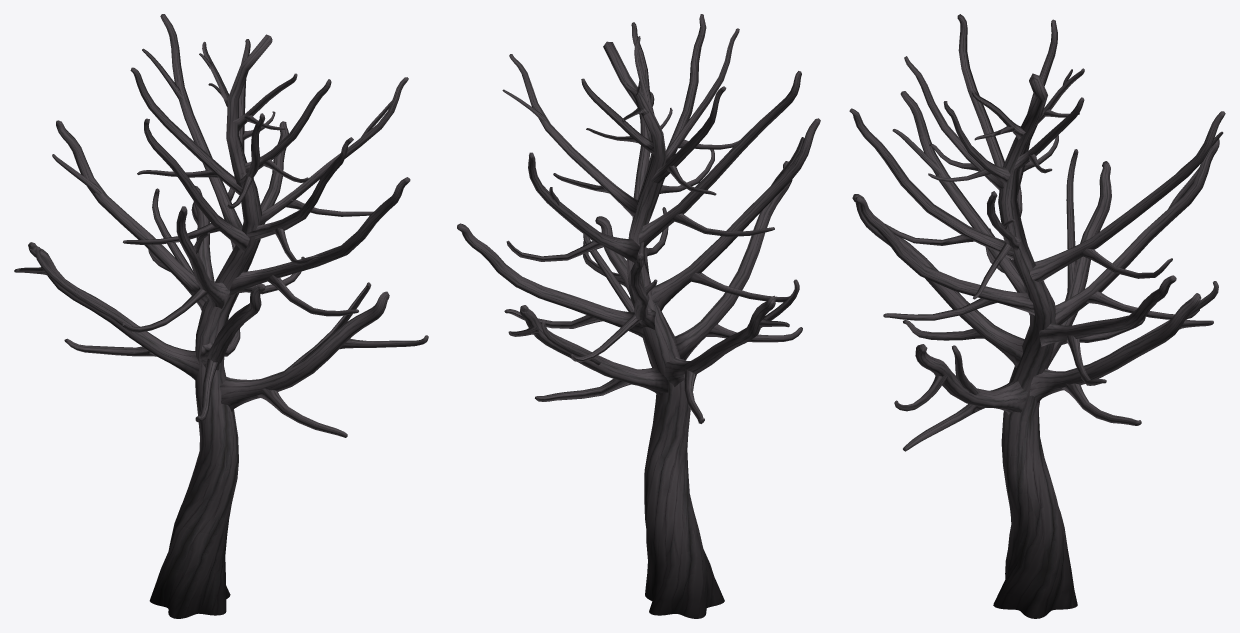
File: deadtree-1.glb
3 renders of one model, left to right at view 1: azimuth 30°, elevation 25°; view 2: azimuth 150°, elevation 25°; view 3: azimuth 270°, elevation 25°, orthographic. The views are drawn at different scales.
Parts seen in each view (by area): view 1: DeadTree_1; view 2: DeadTree_1; view 3: DeadTree_1.
Boxes of the visible parts, x1,y1,x2,y2 form: DeadTree_1: (14, 14, 428, 618); DeadTree_1: (457, 14, 820, 618); DeadTree_1: (849, 14, 1225, 618).
Bounding box in the file's own units: 6.15 × 9.5 × 5.75.
Materials: 1 (1 with a texture image).
